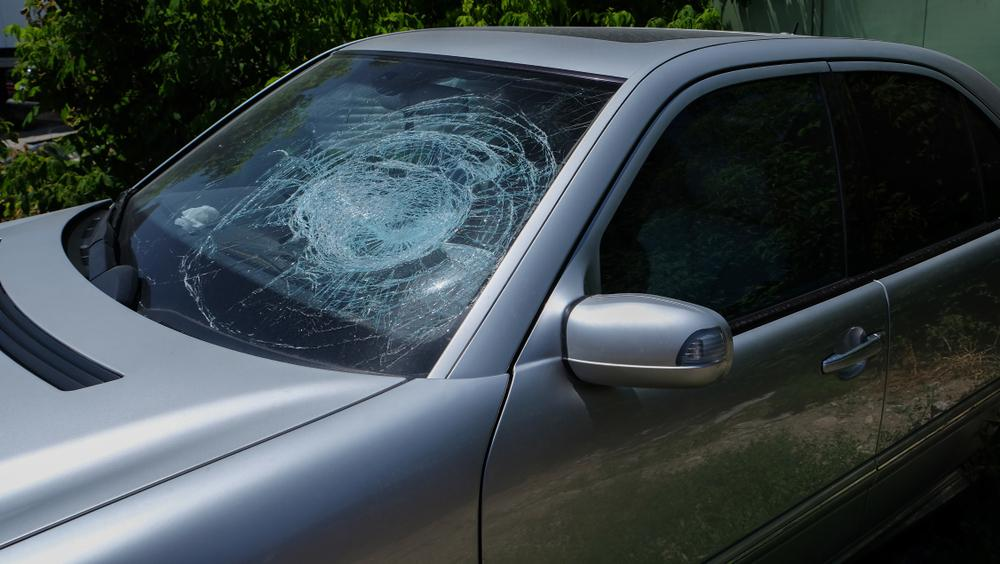glass shatter: (119, 55, 620, 376)
